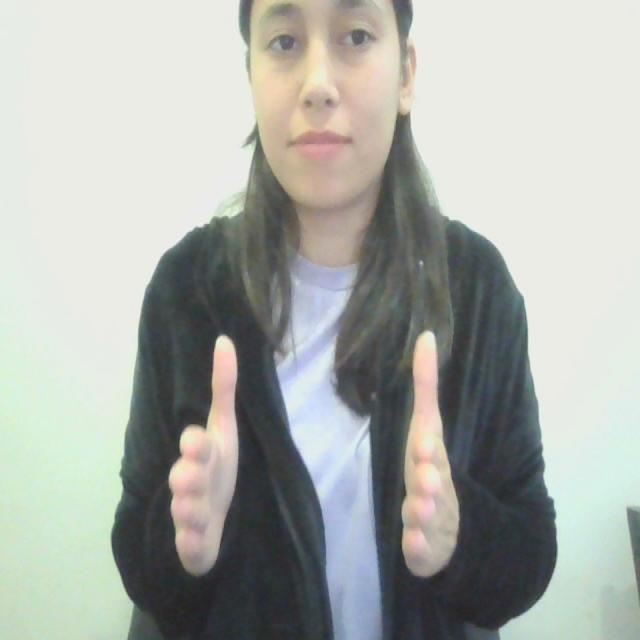Nasil: (170, 325, 464, 582)
